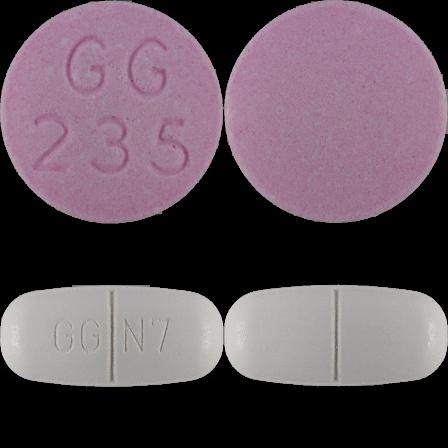0781-1832: (0, 0, 224, 224)
